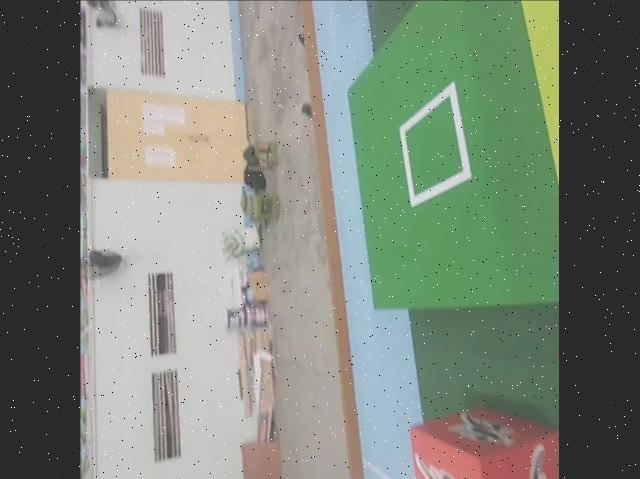R1: (409, 405, 559, 479)
